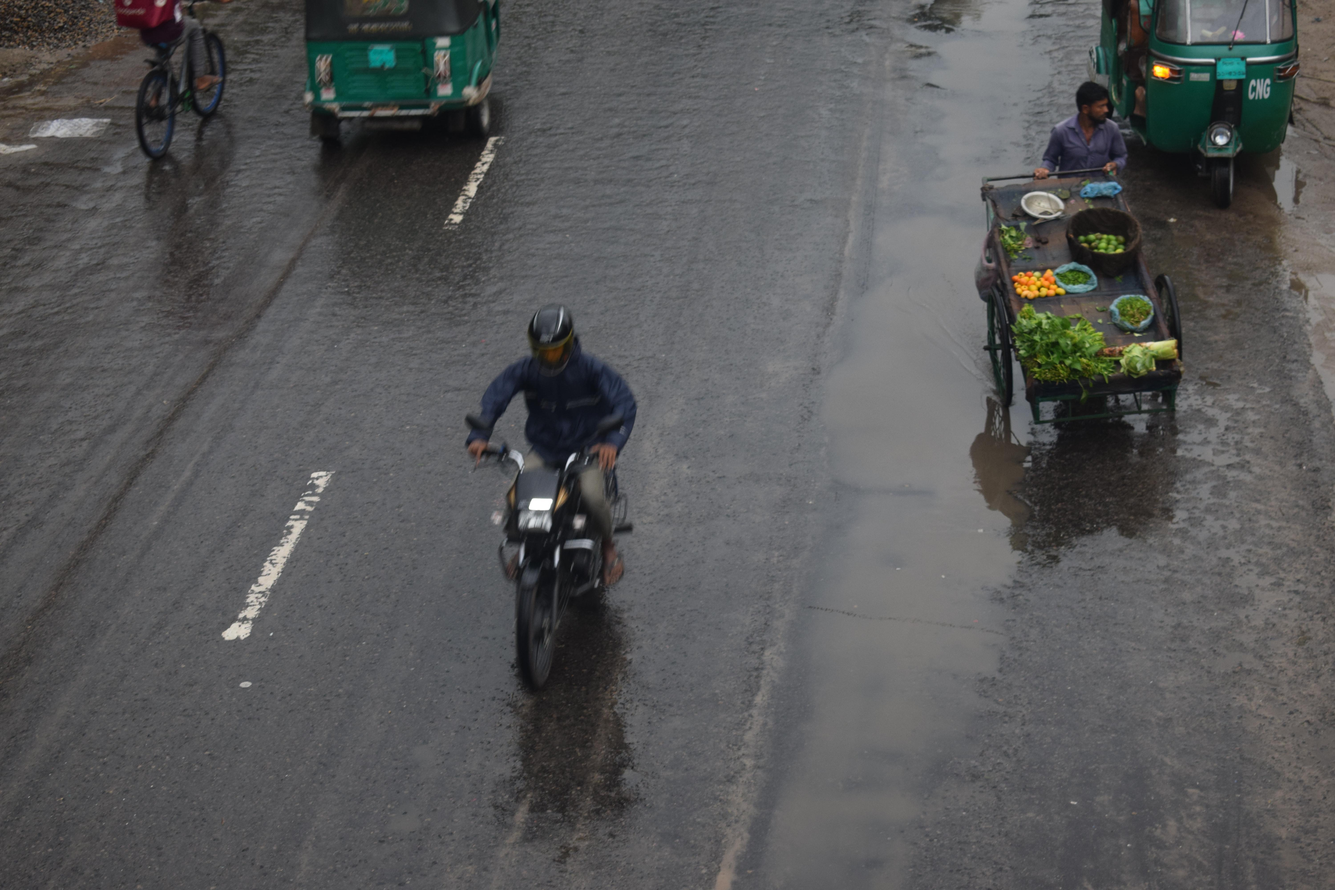Bike: (403, 261, 763, 730)
